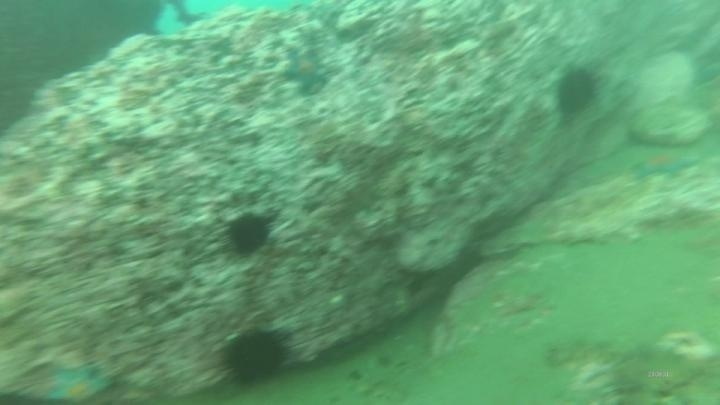echinus: (213, 321, 297, 392), (221, 208, 277, 260), (552, 63, 602, 121)
holothurian: (543, 331, 636, 372), (334, 375, 411, 405)
starfish: (42, 360, 115, 403), (629, 146, 702, 183), (280, 46, 331, 96)
